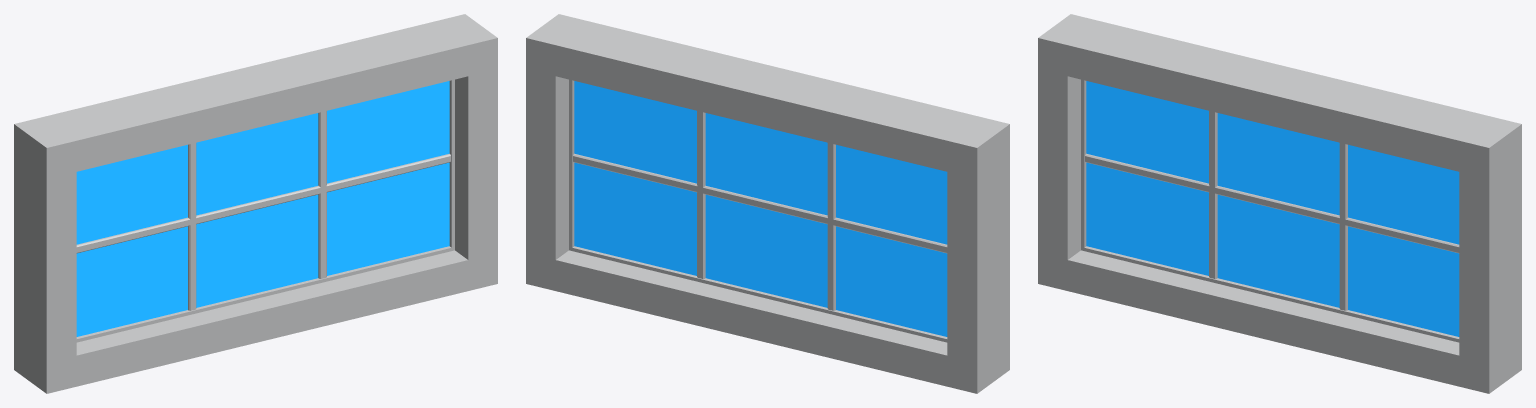
File: janela_larga_grade_3x2_branca.glb
3 views of the same model, side by side, from view 1: azimuth 30°, elevation 25°; view 2: azimuth 150°, elevation 25°; view 3: azimuth 330°, elevation 25° (orthographic).
Visible parts, largest first — view 1: janela_larga_grade_3x2_branca; view 2: janela_larga_grade_3x2_branca; view 3: janela_larga_grade_3x2_branca.
Boxes of the visible parts, x1=… form: janela_larga_grade_3x2_branca: x1=14, y1=14, x2=497, y2=393; janela_larga_grade_3x2_branca: x1=526, y1=14, x2=1009, y2=393; janela_larga_grade_3x2_branca: x1=1038, y1=14, x2=1521, y2=393.
Bounding box in the file's own units: 1.67 × 0.87 × 0.21.
